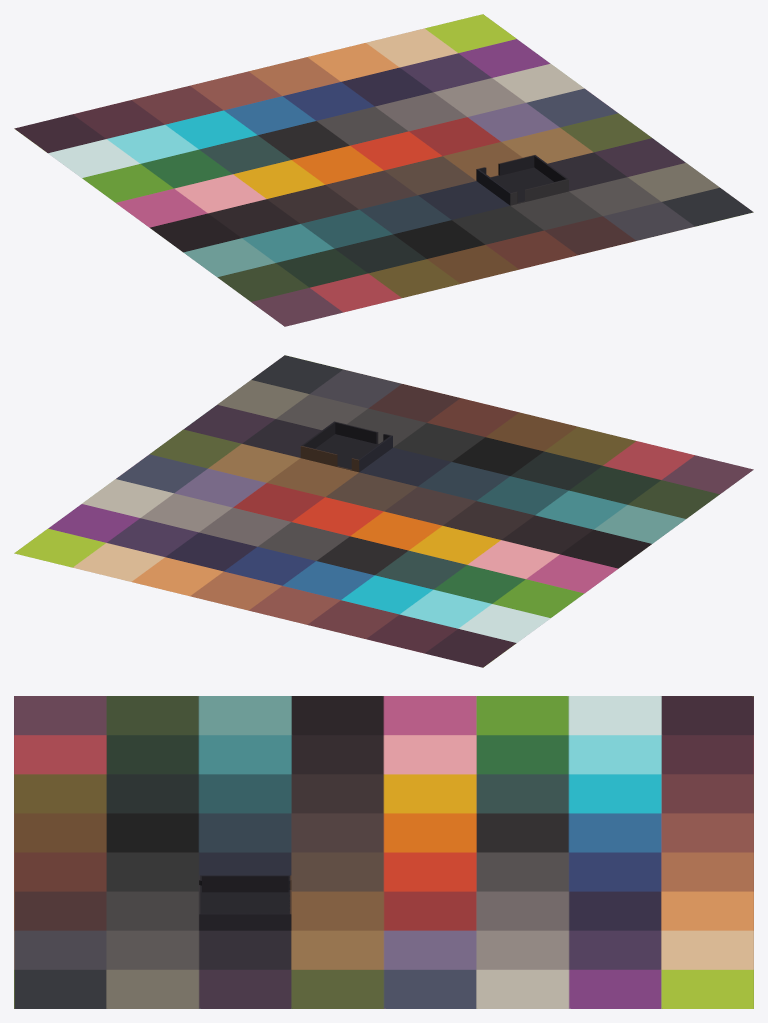
Rendered from farm_land.glb.
3 views of the same model, one above another, from view 1: azimuth 30°, elevation 25°; view 2: azimuth 150°, elevation 25°; view 3: azimuth 270°, elevation 25° (orthographic). The views are drawn at different scales.
Parts seen in each view (by area): view 1: farm_land; view 2: farm_land; view 3: farm_land.
Boxes of the visible parts, x1,y1,x2,y2 form: farm_land: [14, 14, 753, 326]; farm_land: [14, 355, 753, 667]; farm_land: [14, 696, 753, 1008].
Bounding box in the file's own units: 128 × 3.12 × 128.
Materials: 1 (1 with a texture image).
